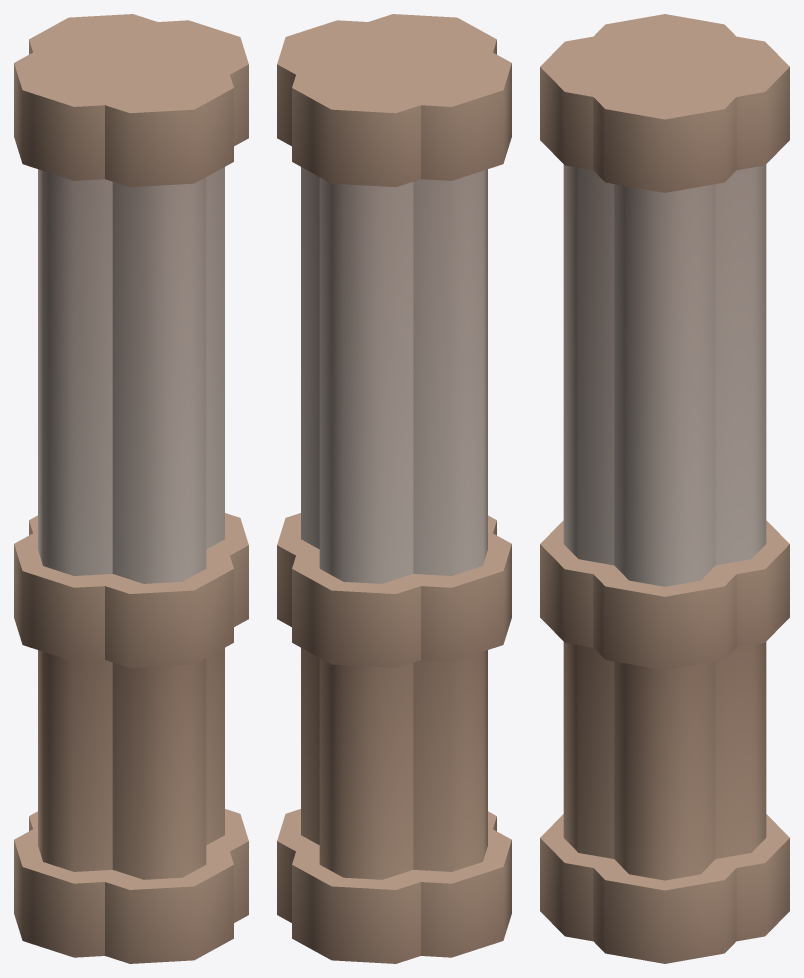
File: column-decorative-ring.glb
The picture shows the model from 3 angles, left to right: view 1: azimuth 30°, elevation 25°; view 2: azimuth 150°, elevation 25°; view 3: azimuth 270°, elevation 25°; orthographic projection.
Parts seen in each view (by area): view 1: column-decorative-ring; view 2: column-decorative-ring; view 3: column-decorative-ring.
Part boxes in pixels (<box>): column-decorative-ring: <box>14,14,248,963</box>; column-decorative-ring: <box>277,14,511,963</box>; column-decorative-ring: <box>540,14,789,963</box>.
Size of the model in its own units: 0.6165 by 2.3 by 0.6165.
